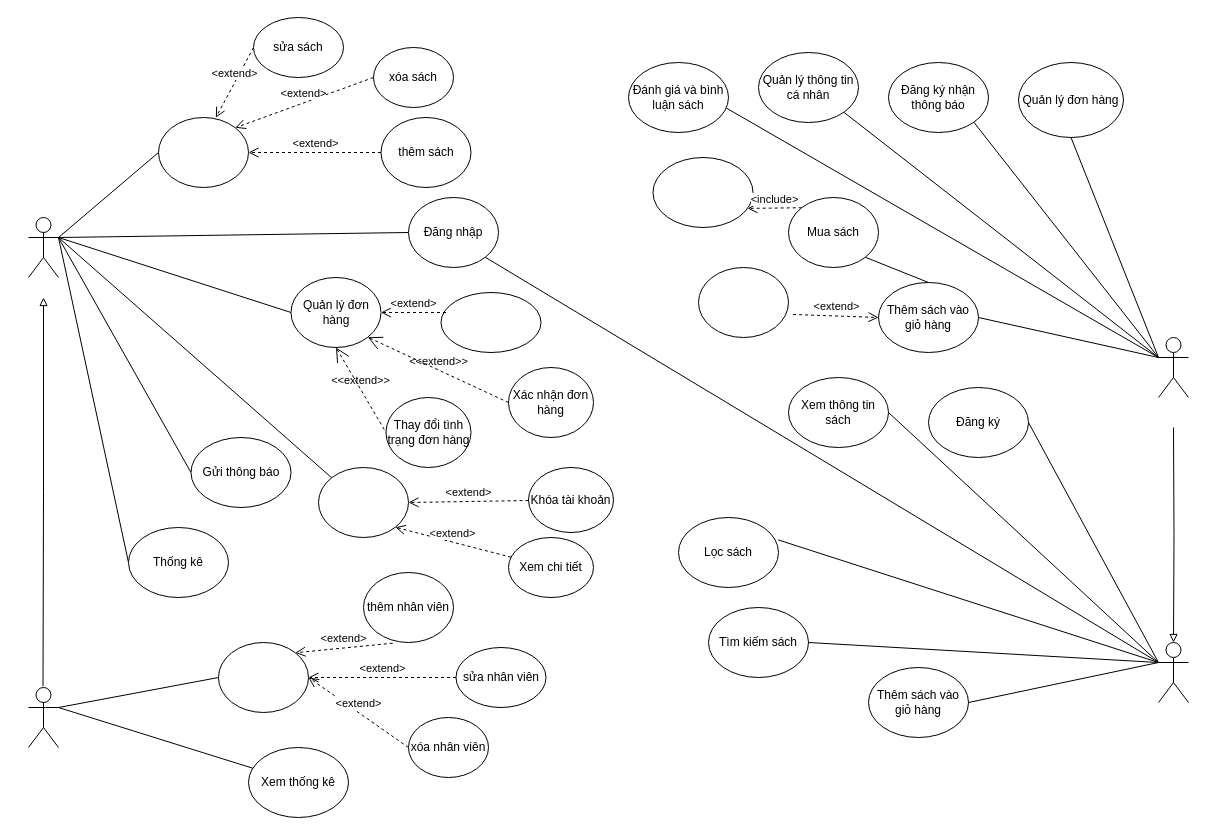
Some shapes in this 1217 by 835 pixel diagram are drawn without their labels. The shapes that lost their labels are listed below. From the top down, each one's box as (x1, y1, x2, y2) in pixels, then its label:
(158, 116, 248, 188): Quản lý sách
(652, 156, 753, 228): Thanh toán
(28, 216, 58, 278): Employee
(440, 292, 541, 352): Xem chi tiết đơn hàng
(698, 266, 788, 338): Chỉnh sửa giỏ hàng
(1158, 336, 1188, 398): Customer
(318, 466, 408, 538): Quản lý khách hàng
(218, 642, 308, 712): Quản lý nhân viên
(1158, 642, 1188, 702): Guest
(28, 686, 58, 748): Admin
